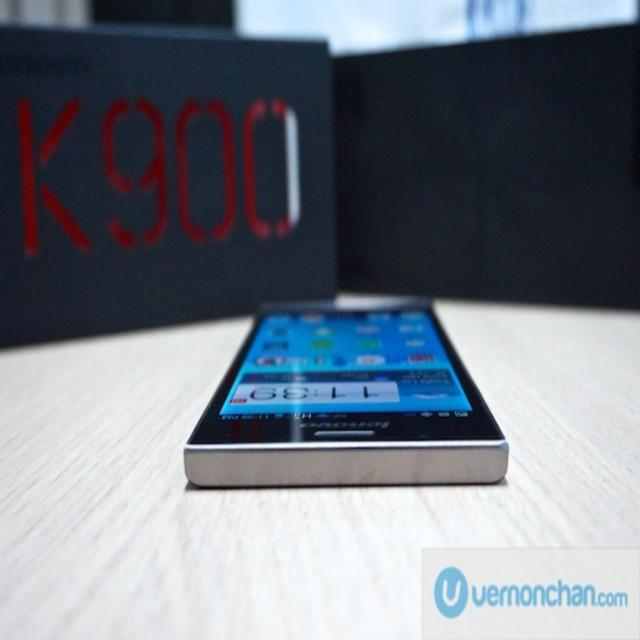Mobile-phone: (177, 298, 519, 496)
